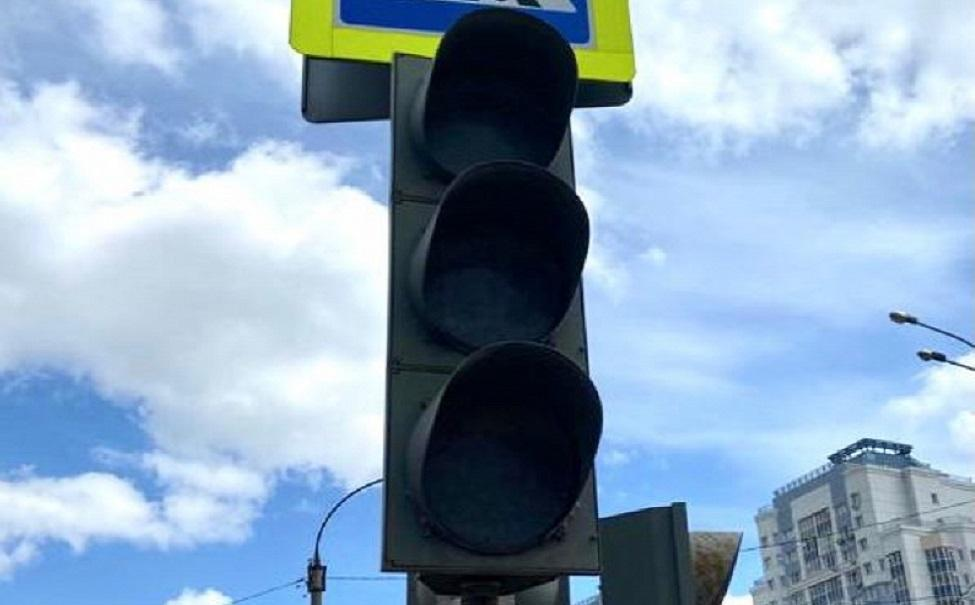off traffic light: (382, 12, 602, 580)
